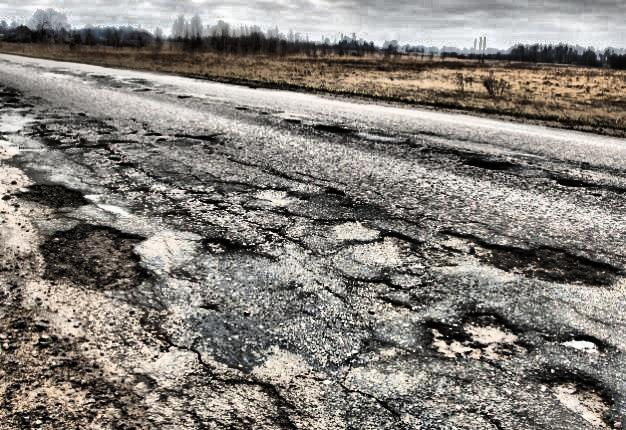pothole: (35, 223, 152, 296), (477, 245, 614, 286), (421, 311, 526, 356), (542, 368, 623, 424), (7, 179, 93, 213), (371, 223, 421, 256), (554, 333, 607, 359), (462, 154, 514, 176), (202, 233, 231, 261), (551, 176, 596, 191), (312, 122, 353, 137), (326, 185, 346, 201)
